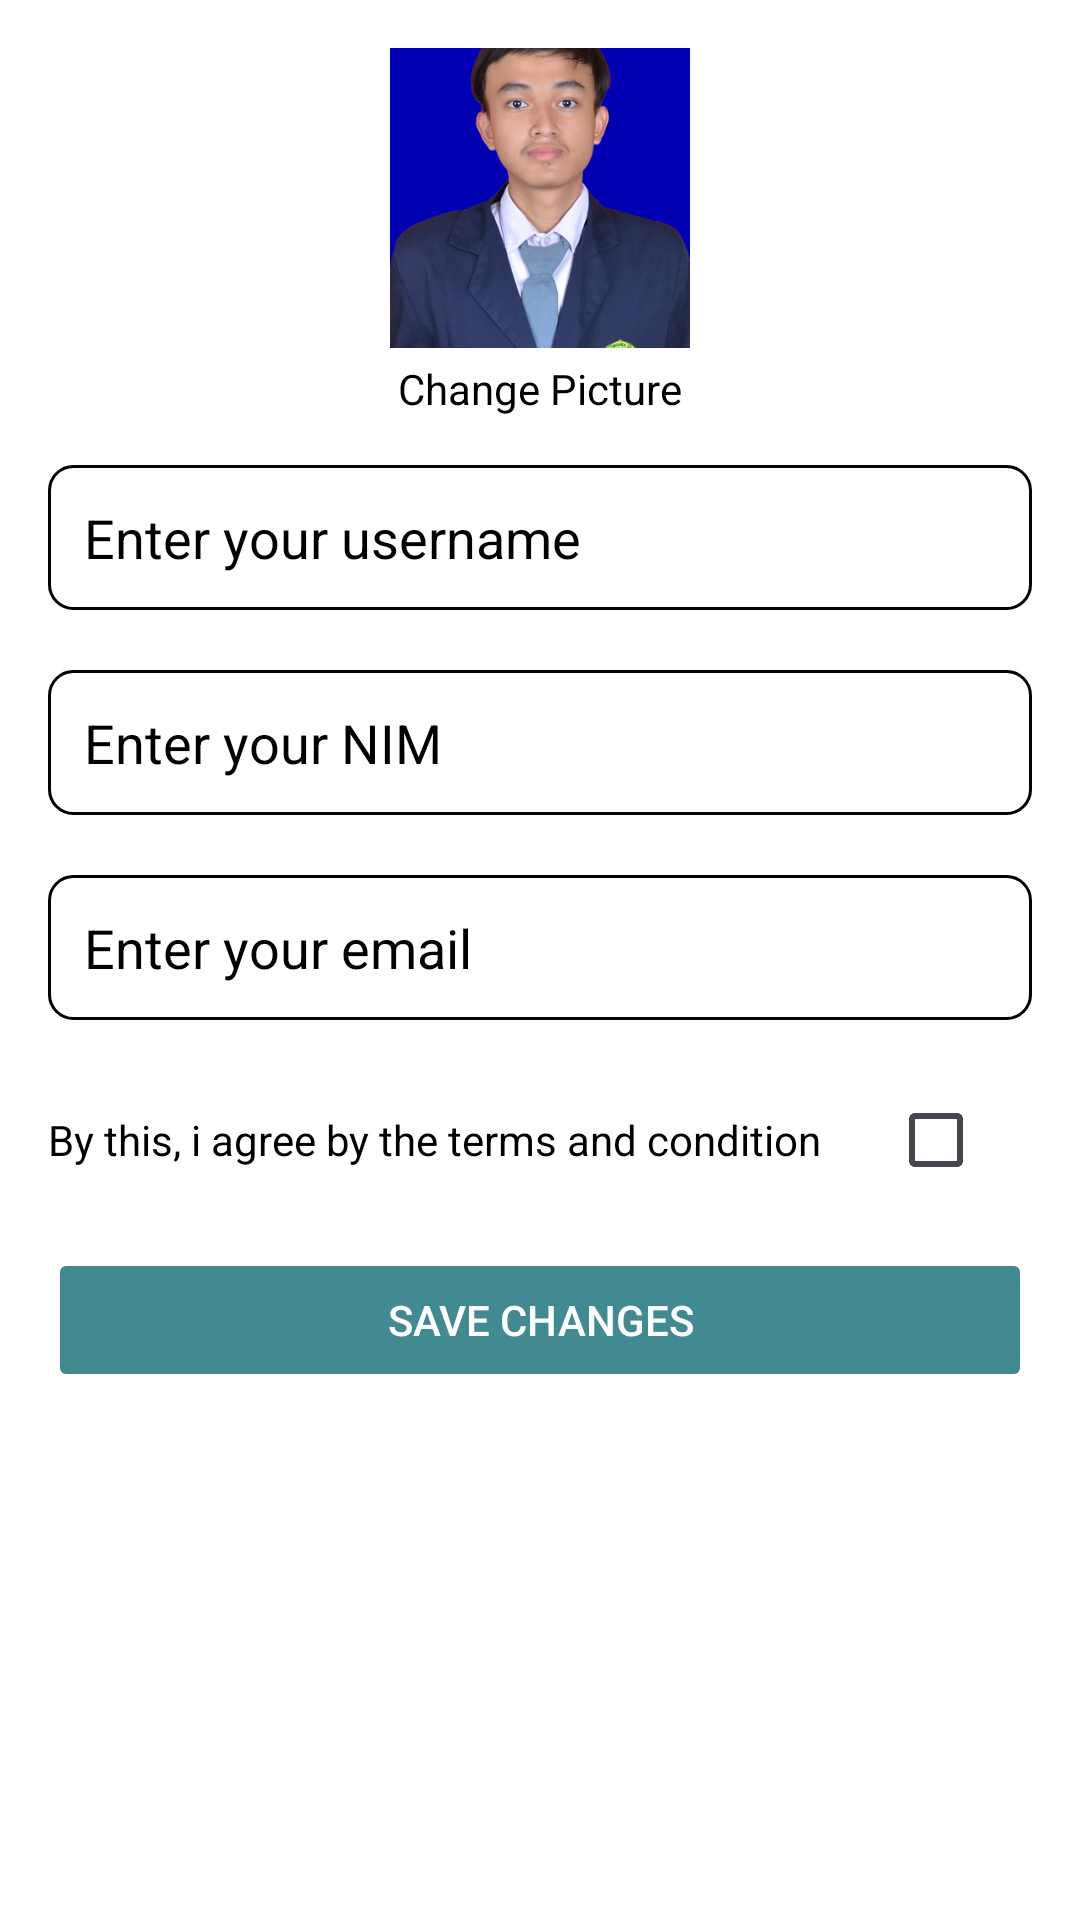

Where icons sit on this 1080 x 1920 app screen, as (x1, y1, x2, y2):
Profile Picture: (390, 48, 690, 348)
